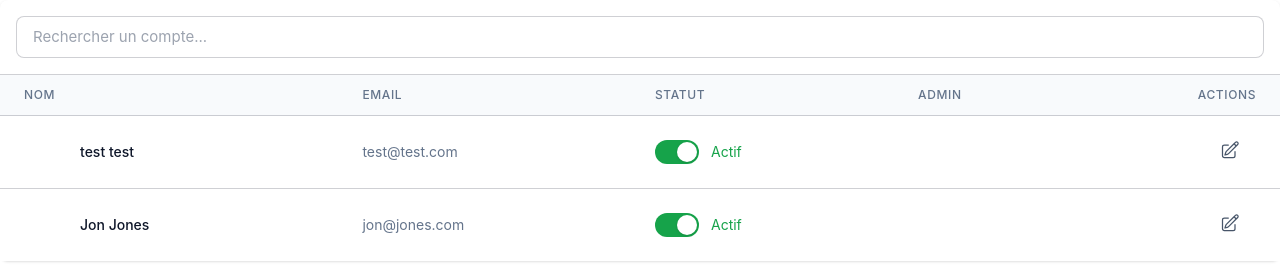
Scenario: AccountsListComponent › Recherche › should filter accounts based on search query
The image size is (1280, 279).
# Effectuer la recherche
Type "test" into the field with id "searchAccountInput".
click(640, 37); type("test")  # box [16,16,1264,58]
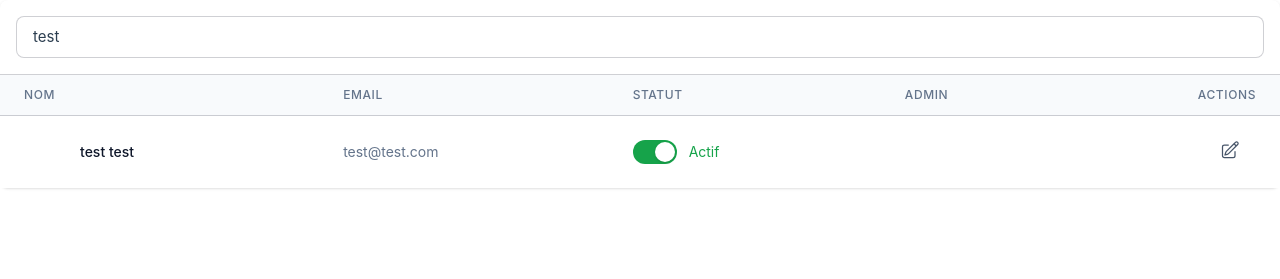
Check: the text "test test" is shown, box [80,142,134,162]
Check: the text "Jon Jones" is gone
